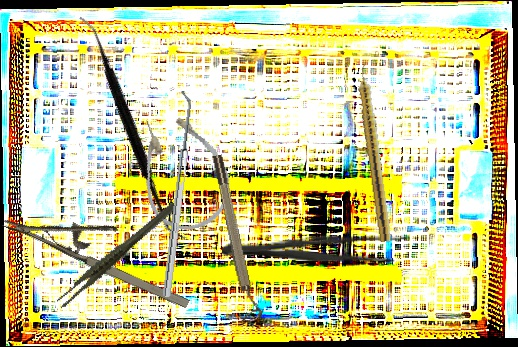Cannula: (125, 101, 241, 240)
Dressing Forceps: (221, 232, 407, 266)
Fixation Ring: (209, 152, 264, 322)
Handpiece: (354, 61, 396, 243)
Needle Holder: (1, 182, 205, 314)
Spatula Surgical: (9, 14, 256, 242), (154, 90, 196, 298)
Tissue Forceps: (42, 201, 192, 309)
